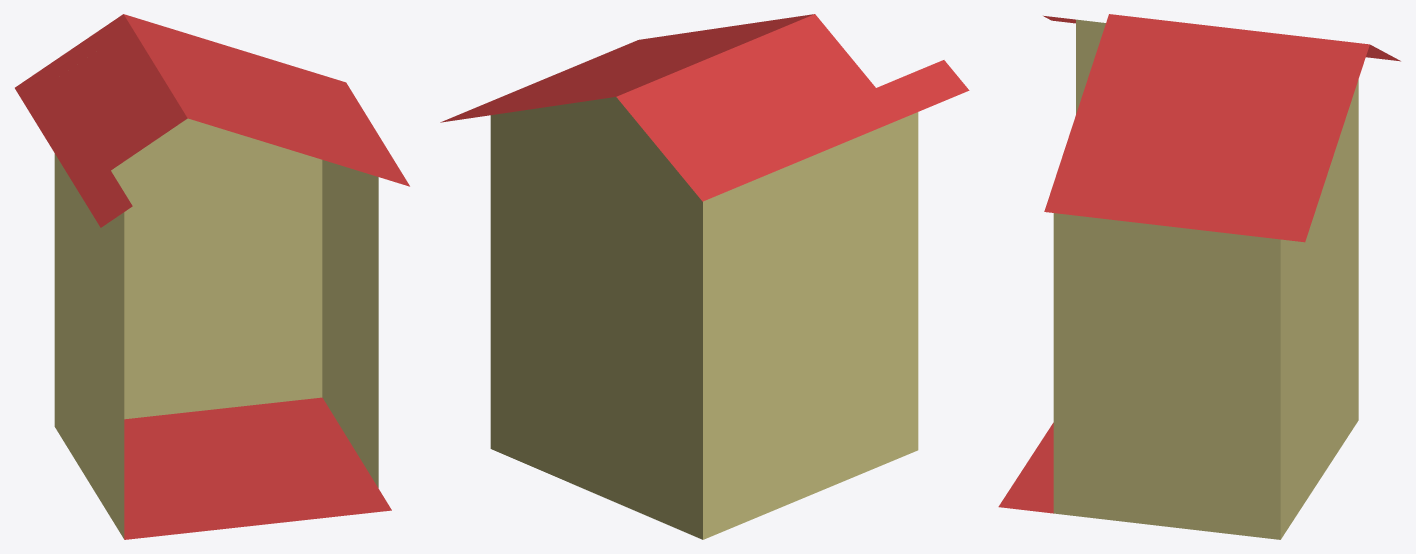
3 views of the same model, side by side, from view 1: azimuth 30°, elevation 25°; view 2: azimuth 150°, elevation 25°; view 3: azimuth 270°, elevation 25° (orthographic). The views are drawn at different scales.
Bounding box in the file's own units: 9.55 × 8.62 × 9.77.
